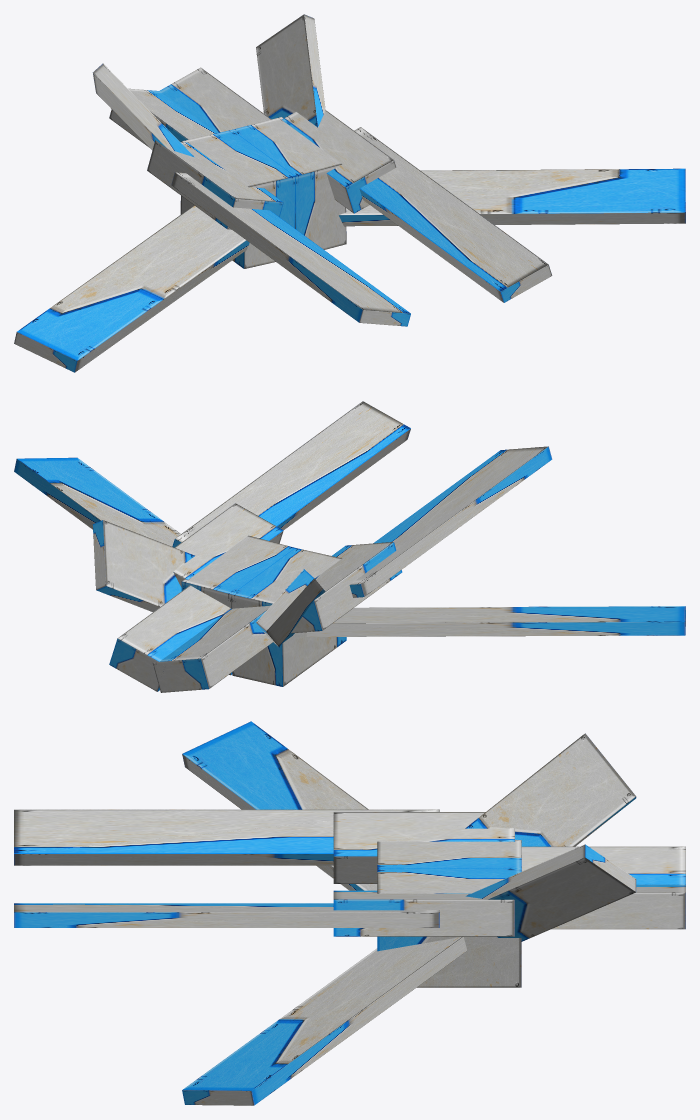
Rendered from F_shipclass1.fbx.
3 views of the same model, one above another, from view 1: azimuth 30°, elevation 25°; view 2: azimuth 150°, elevation 25°; view 3: azimuth 270°, elevation 25° (orthographic). The views are drawn at different scales.
Visible parts, largest first — view 1: Friendlyship01; view 2: Friendlyship01; view 3: Friendlyship01.
Boxes of the visible parts, <box> form: Friendlyship01: <box>14,14,685,372</box>; Friendlyship01: <box>14,401,685,692</box>; Friendlyship01: <box>14,721,685,1105</box>.
Bounding box in the file's own units: 494 × 107 × 378.
1 material, 1 textured.
